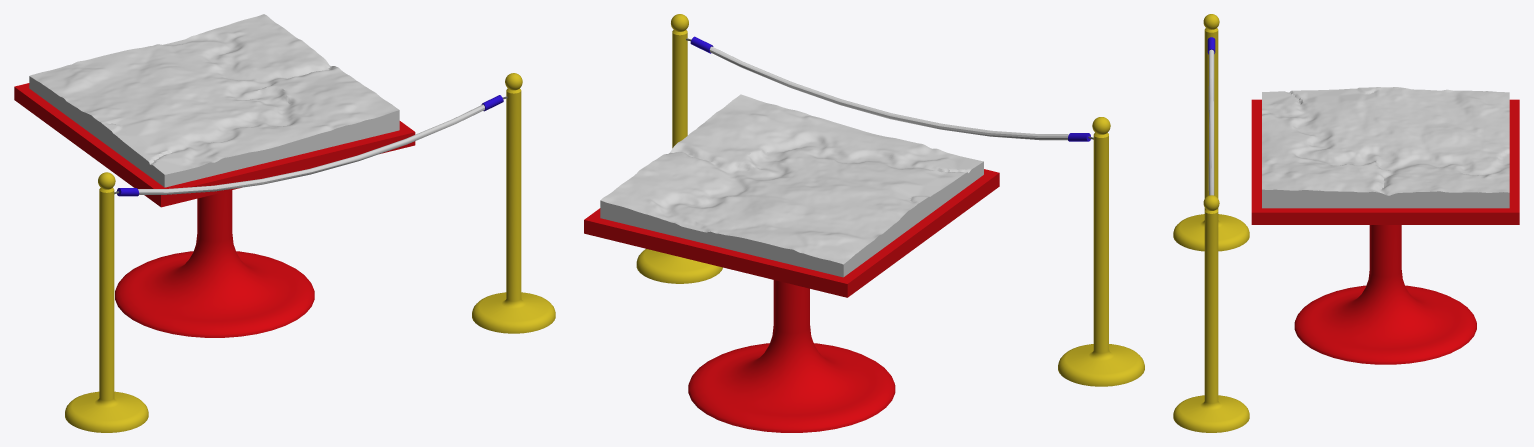
File: Tisch_2_szene_3.fbx
3 renders of one model, left to right at view 1: azimuth 30°, elevation 25°; view 2: azimuth 150°, elevation 25°; view 3: azimuth 270°, elevation 25°, orthographic. The views are drawn at different scales.
Parts seen in each view (by area): view 1: Plane.001, Volume - Maquette blanche, Peinture - Blanc titanium, Plane.002; view 2: Plane.001, Volume - Maquette blanche, Peinture - Blanc titanium, Plane.002; view 3: Plane.001, Volume - Maquette blanche, Peinture - Blanc titanium, Plane.002.
Part boxes in pixels (x1,y1,x2,y2): Plane.001: (30, 14, 398, 174); Volume - Maquette blanche: (14, 83, 507, 337); Peinture - Blanc titanium: (65, 73, 555, 432); Plane.002: (29, 76, 399, 187); Plane.001: (600, 94, 983, 264); Volume - Maquette blanche: (584, 38, 1093, 432); Peinture - Blanc titanium: (636, 14, 1144, 386); Plane.002: (600, 161, 983, 277); Plane.001: (1262, 87, 1509, 195); Volume - Maquette blanche: (1211, 37, 1519, 364); Peinture - Blanc titanium: (1173, 14, 1249, 432); Plane.002: (1262, 189, 1509, 208).
Size of the model in its own units: 189 by 90.93 by 129.
